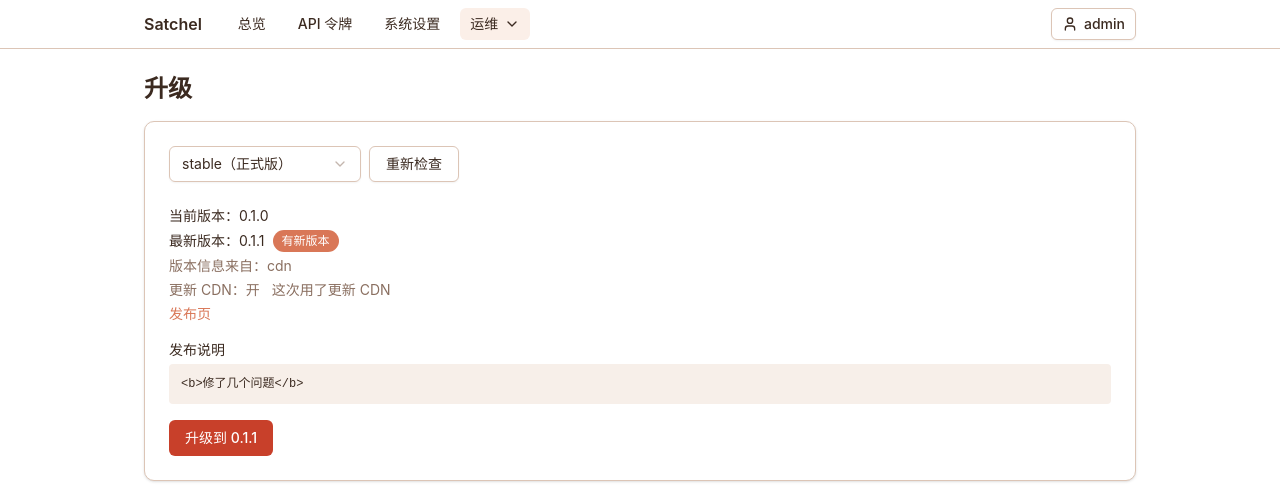
Test: 升级页 › 切换渠道重新检查；update check 失败时原样显示 reason
This screenshot has width=1280, height=499.
Expected: the text "最新版本：0.1.1" is shown, [169,232,264,249]
Click the dropdown named "渠道" at (265, 164), box [169,146,361,182]
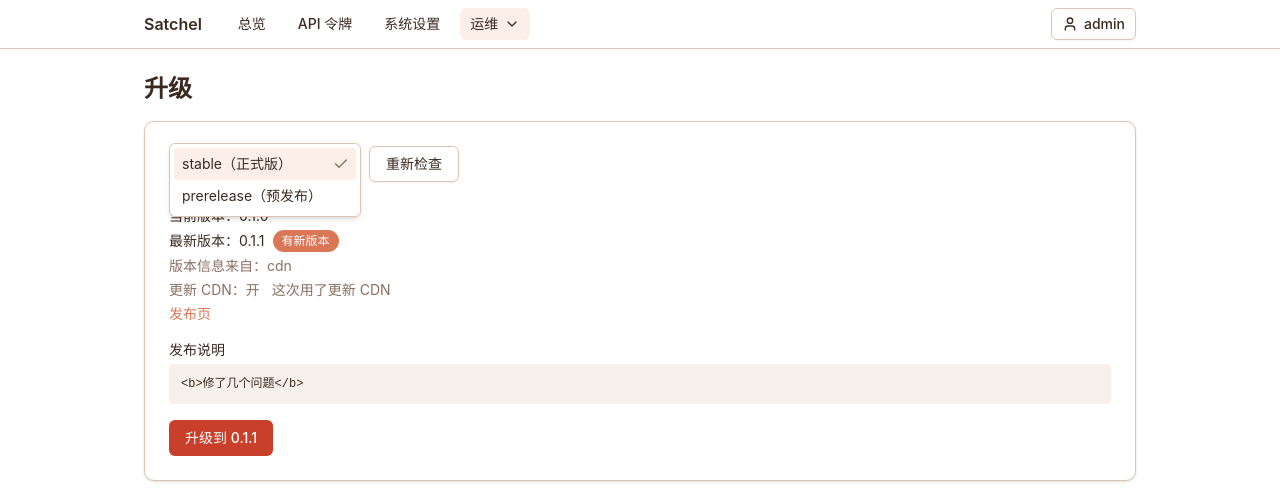
Click the option "prerelease（预发布）" at (252, 196), box [182,187,322,204]
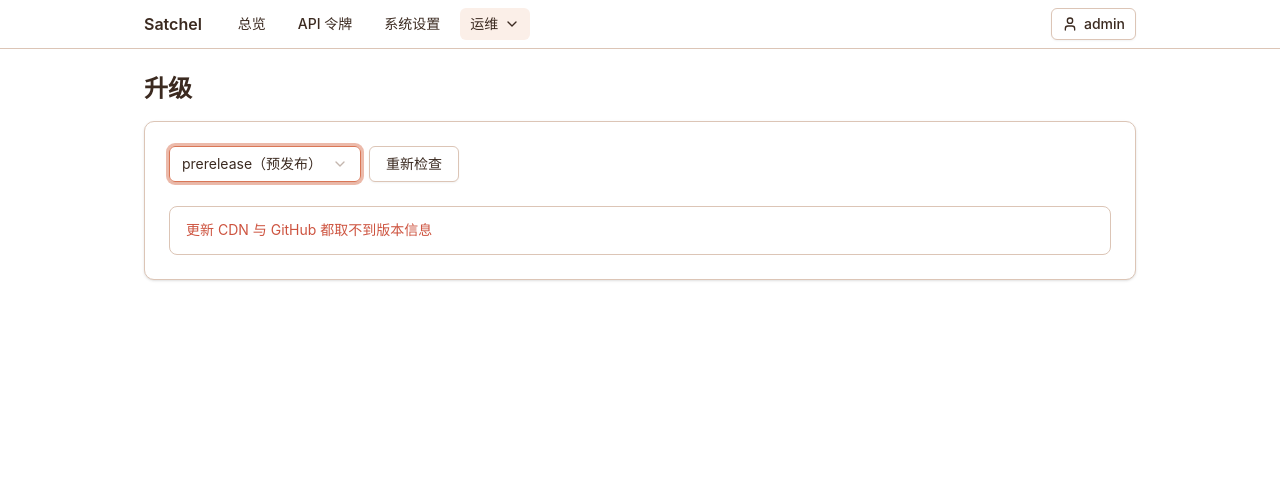
Result: the text "更新 CDN 与 GitHub 都取不到版本信息" is shown at [186,219,432,242]
